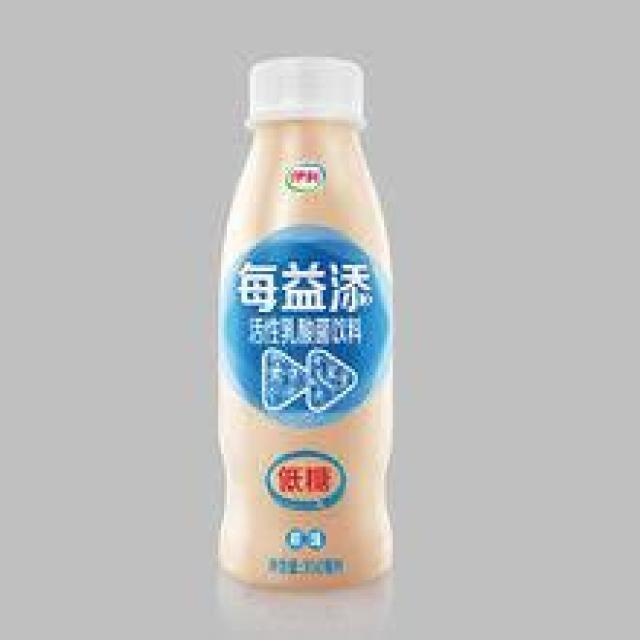inorganic: (204, 47, 402, 608)
